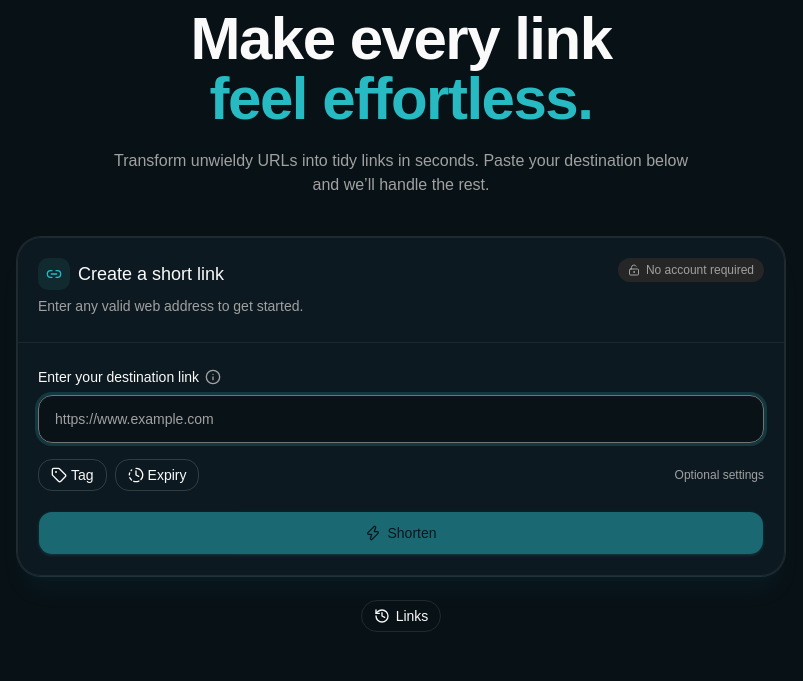
it: HomePage validation feedback › keeps the submit button enabled after a failed request so it can be retried
The width and height of the screenshot is (803, 681).
Type "https://example.com/a/long/destination/path" into the field with placeholder "https://www.example.com". click: x=401, y=419
box: [38,395,764,443]
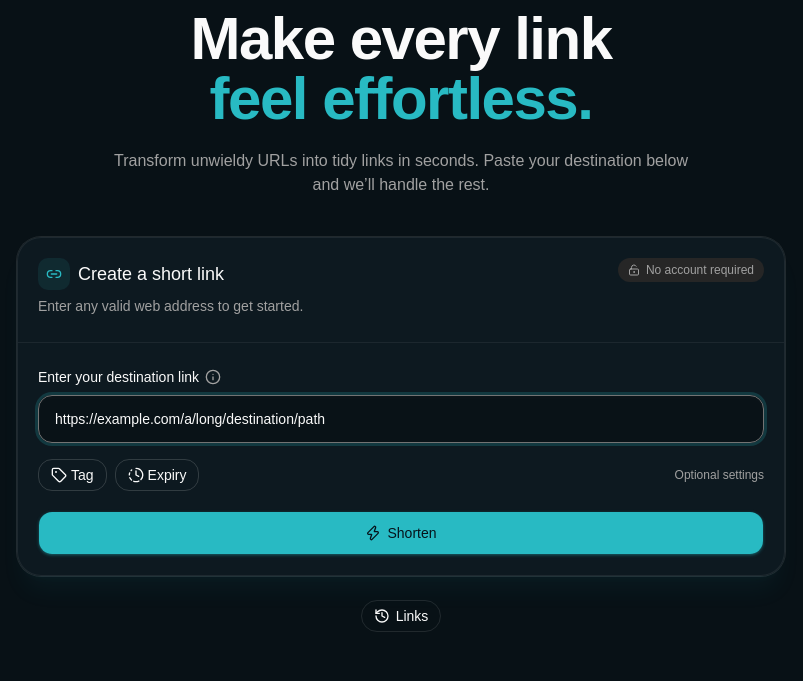
Click the button "Shorten". click: x=401, y=533
box: [38,511,764,555]
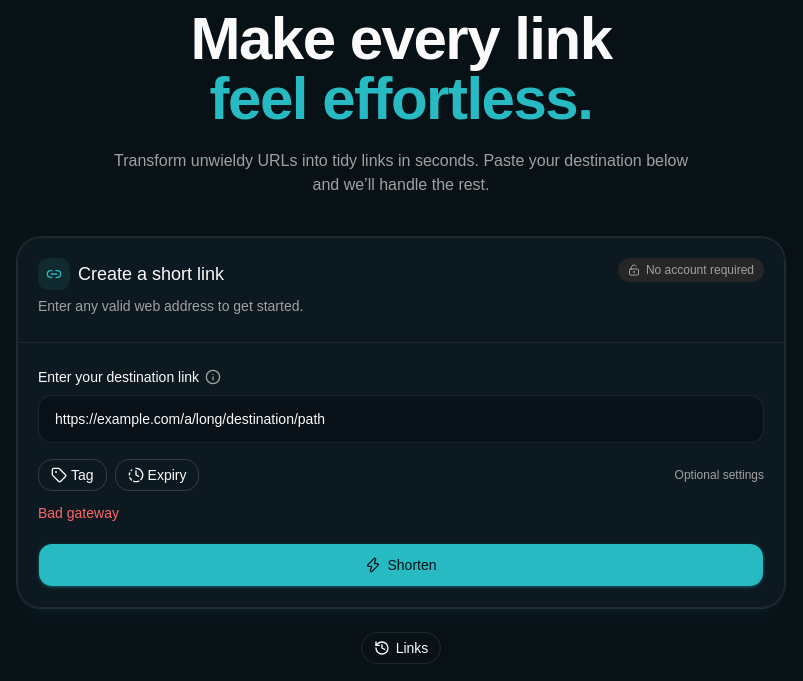
Expected: the button "Shorten" is enabled, [38,543,764,587]
Expected: the text "Bad gateway" is shown, [38,505,119,521]
